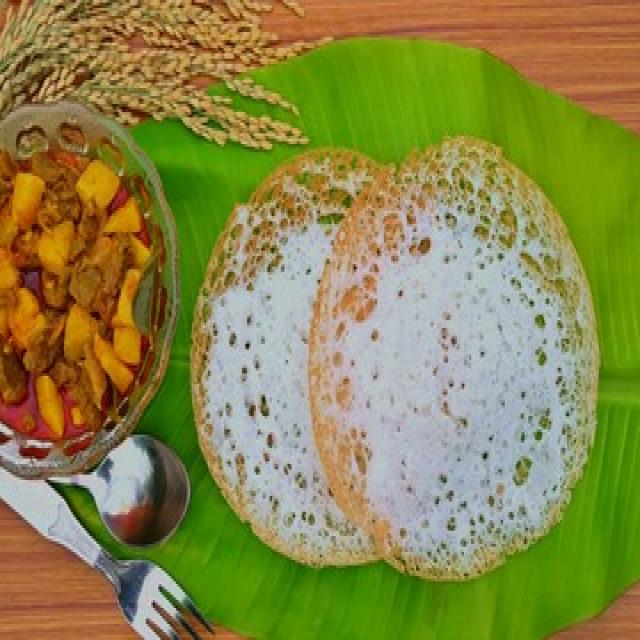AAPAM: (192, 139, 599, 576)
CURRY: (0, 152, 155, 437)
